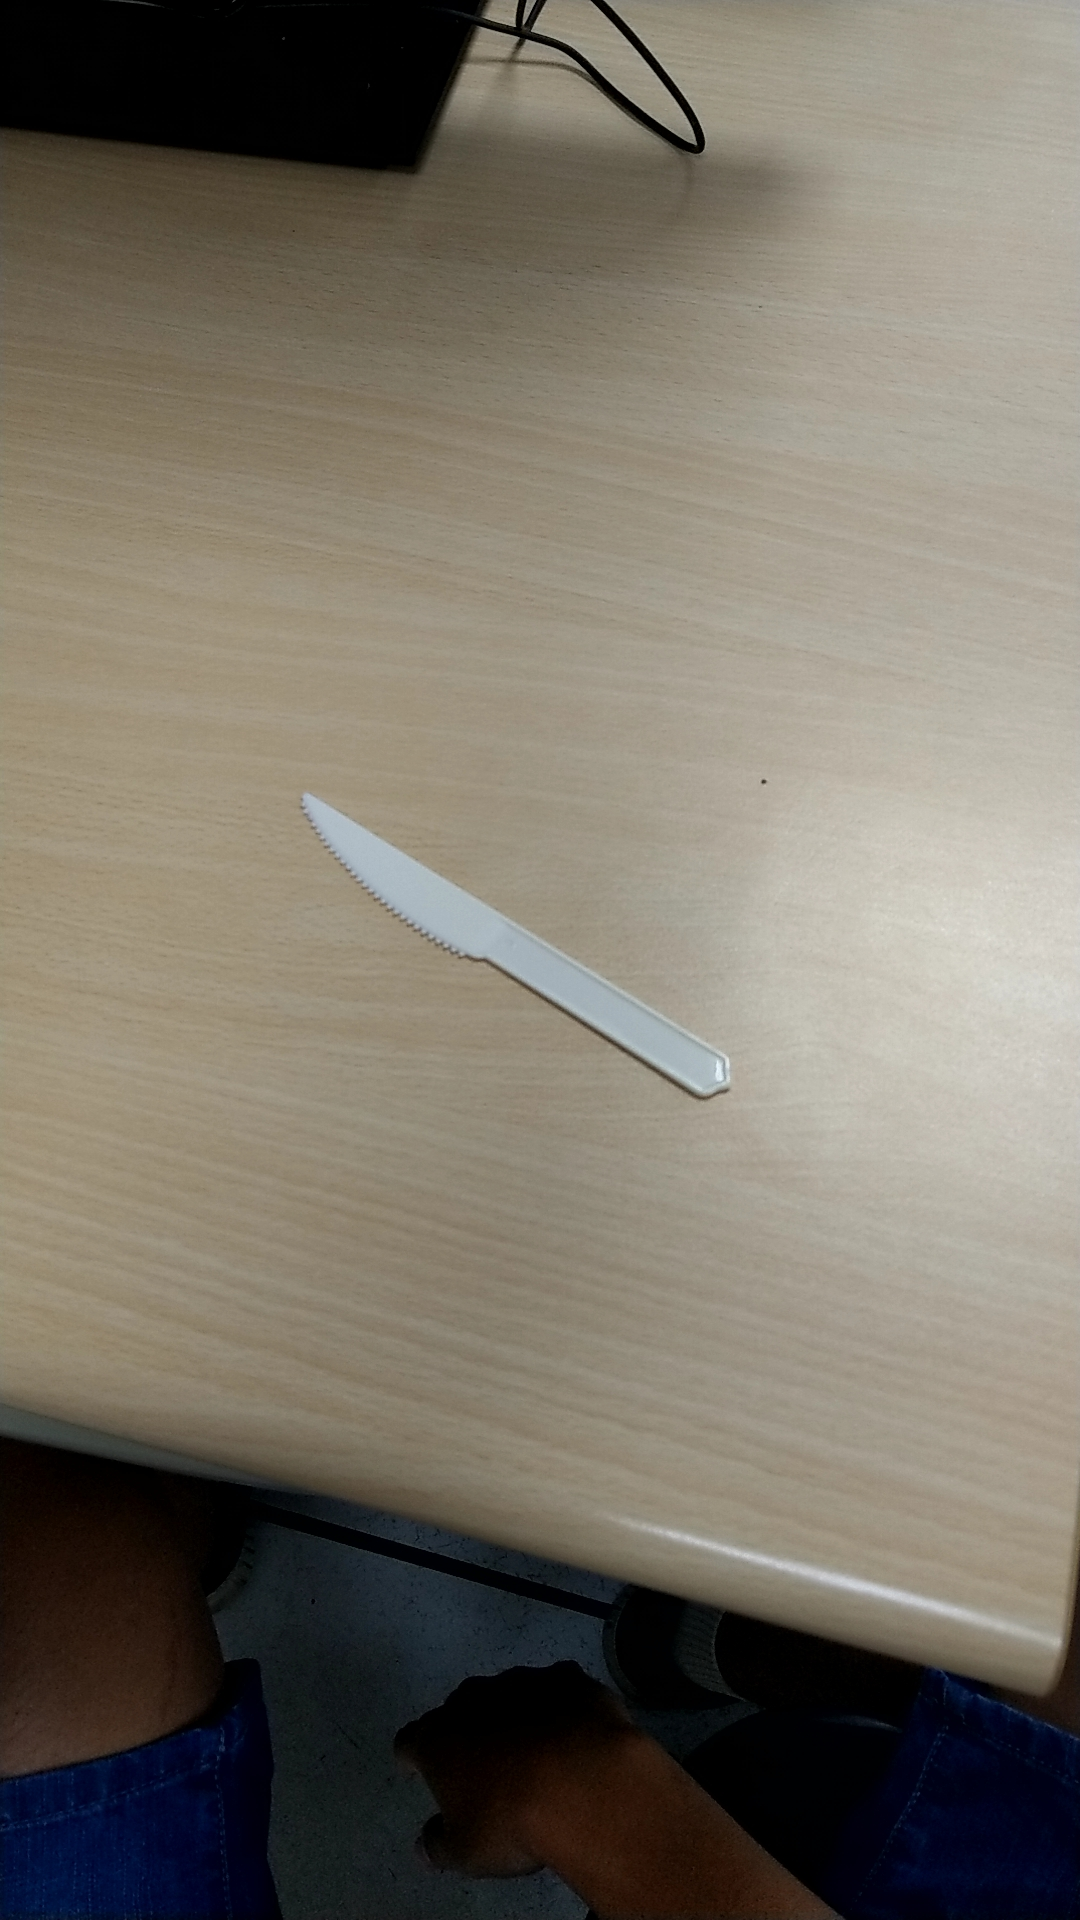knife: (273, 775, 752, 1125)
